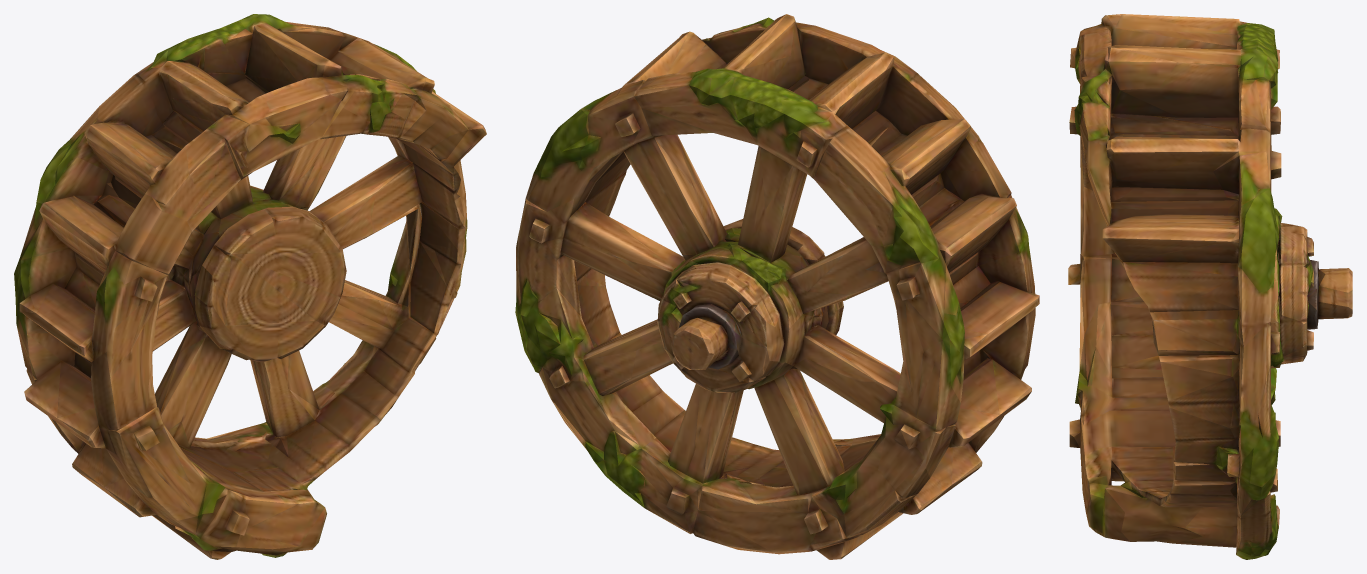
Rendered from mill-wheel.glb.
The picture shows the model from 3 angles, left to right: view 1: azimuth 30°, elevation 25°; view 2: azimuth 150°, elevation 25°; view 3: azimuth 270°, elevation 25°; orthographic projection. The views are drawn at different scales.
Parts seen in each view (by area): view 1: output_unwrapped; view 2: output_unwrapped; view 3: output_unwrapped.
Boxes of the visible parts, left/top/right/bottom form: output_unwrapped: left=14, top=14, right=486, bottom=559; output_unwrapped: left=515, top=14, right=1039, bottom=559; output_unwrapped: left=1068, top=14, right=1352, bottom=559.
Size of the model in its own units: 1.86 by 1.9 by 0.972.
1 material, 1 textured.
